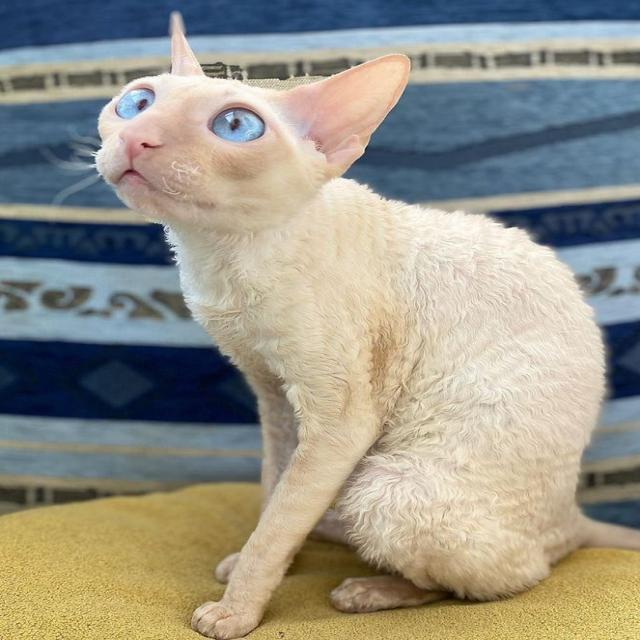Cornish Rex: (89, 7, 640, 640)
